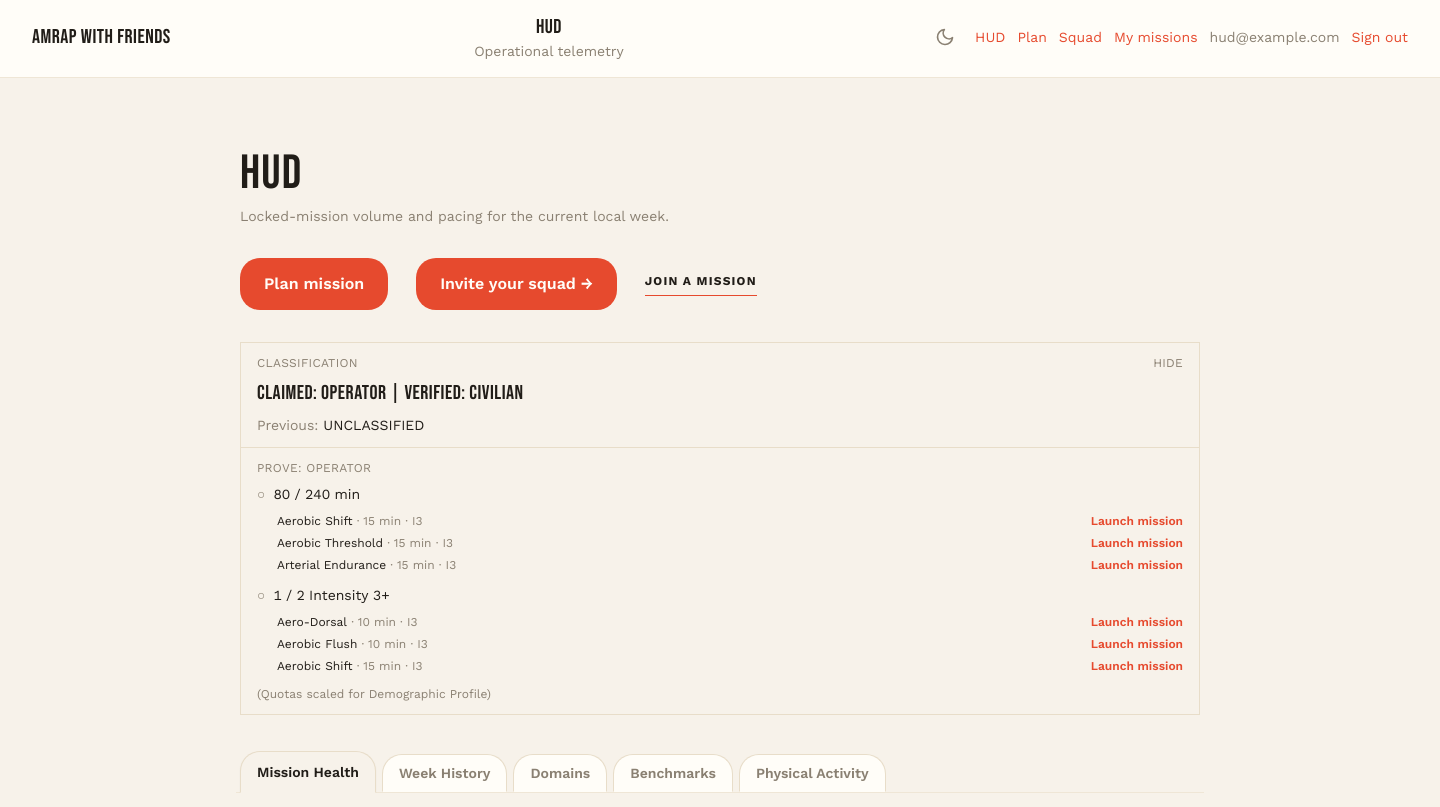
Test: HUDPage tabs › lets Attrition switch which week detail is open
The image size is (1440, 807).
Click the tab "Week History" at {"x": 445, "y": 773}, box left=382, top=754, right=508, bottom=792
(page scrolled)
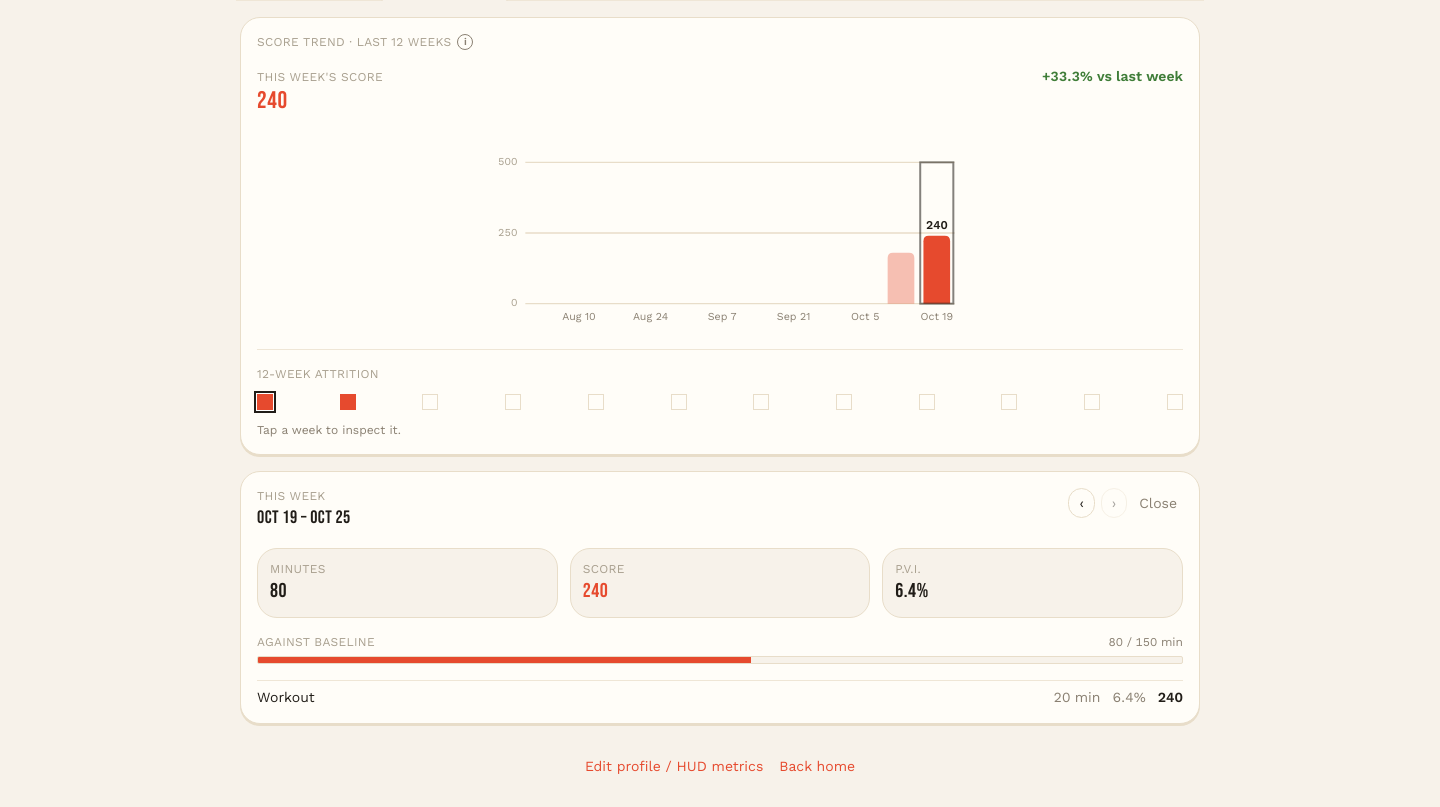
# Second cell from the left is the prior week (data index 10) in the fixture.
Click the button named "Week of Oct 12 – Oct 18: compliant, 1 mission" at {"x": 348, "y": 402}, box left=340, top=394, right=356, bottom=410
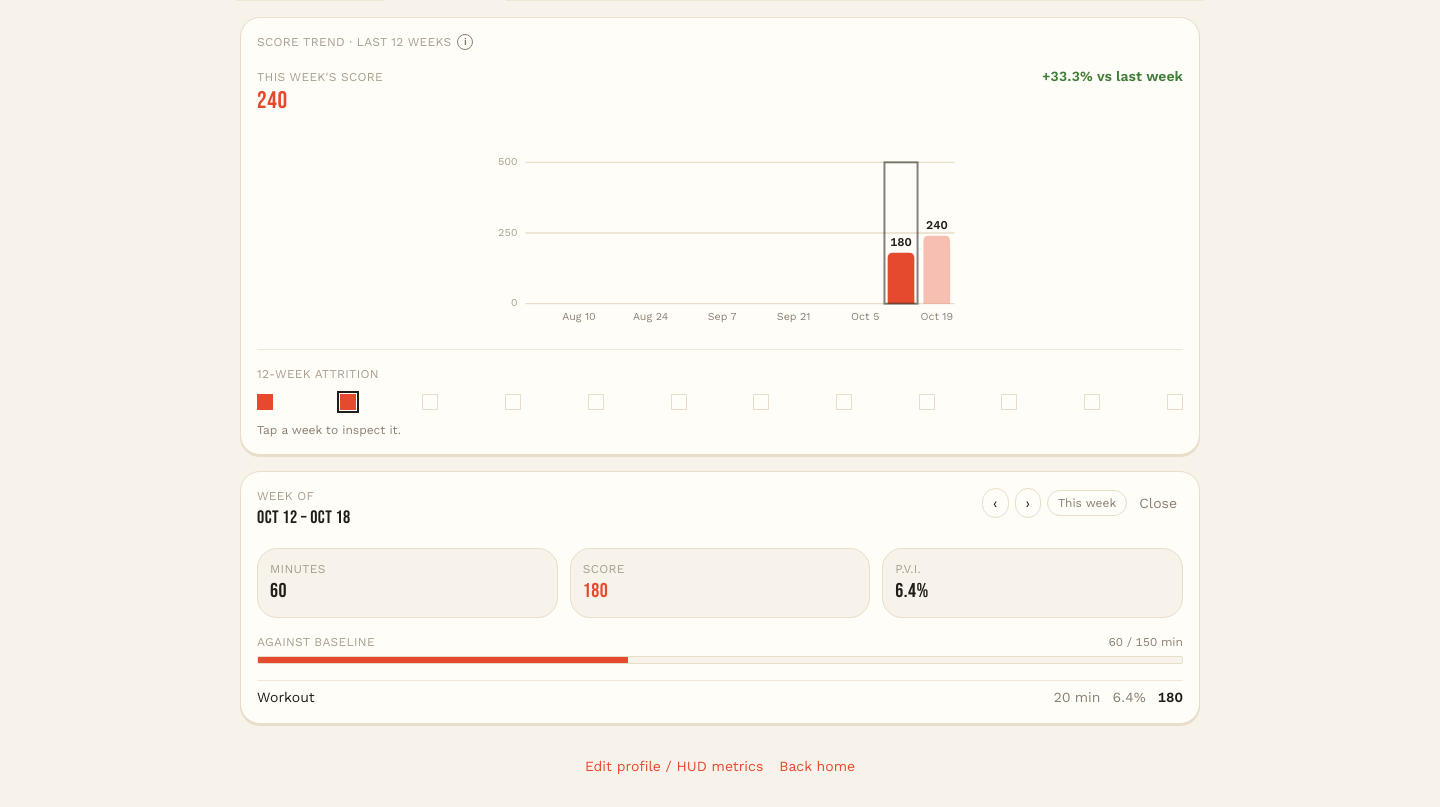
Expected: the button "This week" is shown, left=1047, top=490, right=1127, bottom=516
Now the element named "Week detail" is shown, box left=240, top=471, right=1200, bottom=724
Now the text "Week of" is shown, box left=257, top=489, right=314, bottom=503
